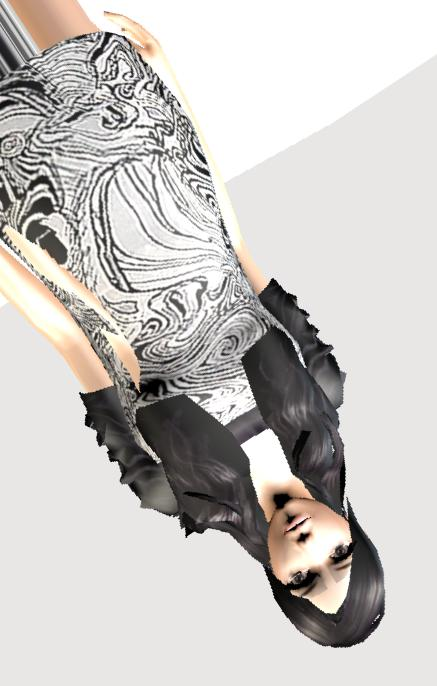clip: (71, 264, 130, 330)
